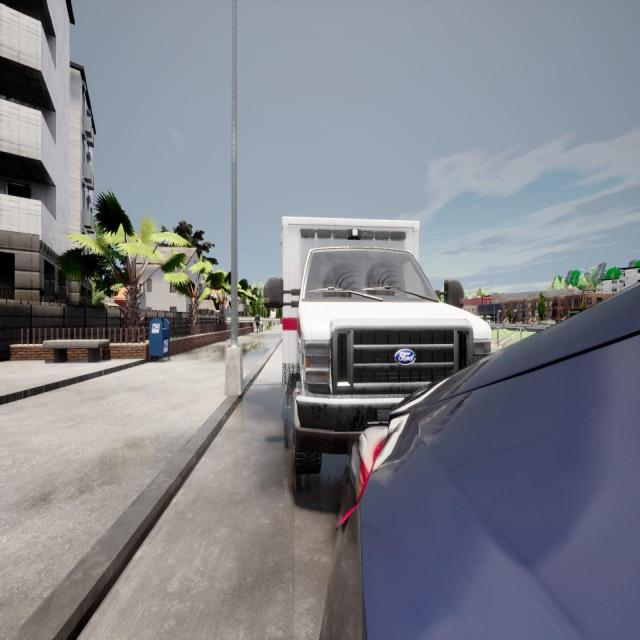Pedestrian: (254, 310, 261, 334)
Vehicle: (321, 287, 640, 640), (266, 215, 494, 488)
